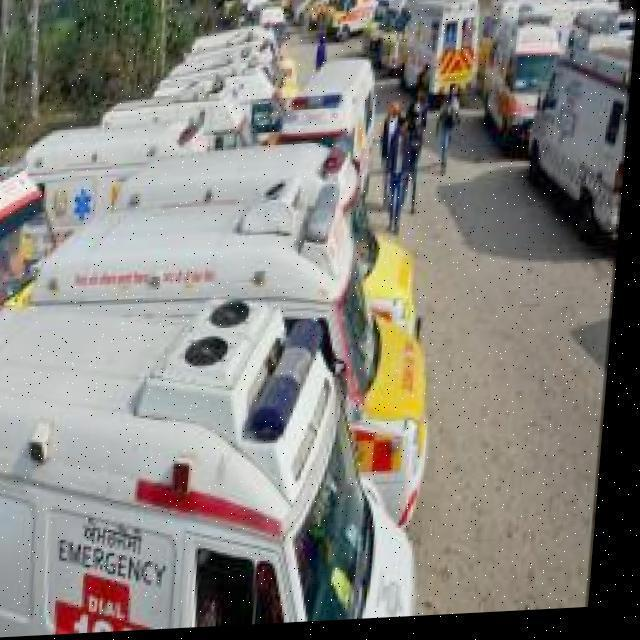Ambulance: (0, 0, 637, 637), (520, 18, 634, 264), (392, 0, 488, 115)
